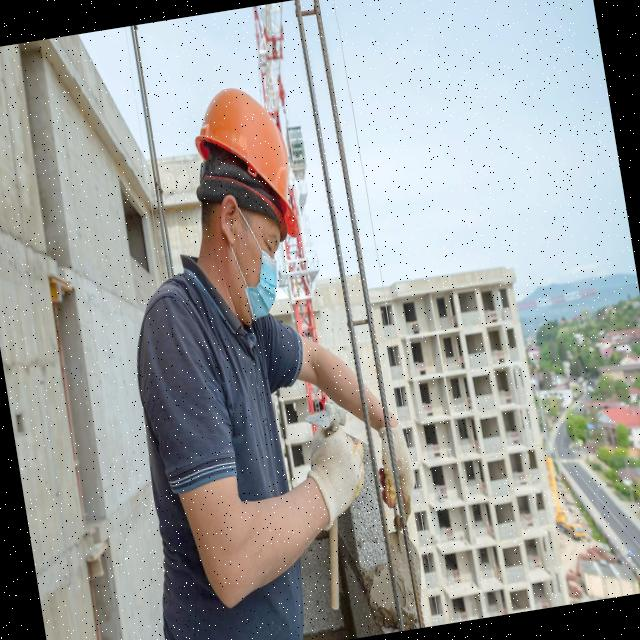Helmet: (183, 79, 303, 255)
NoJacket: (142, 254, 327, 640)
